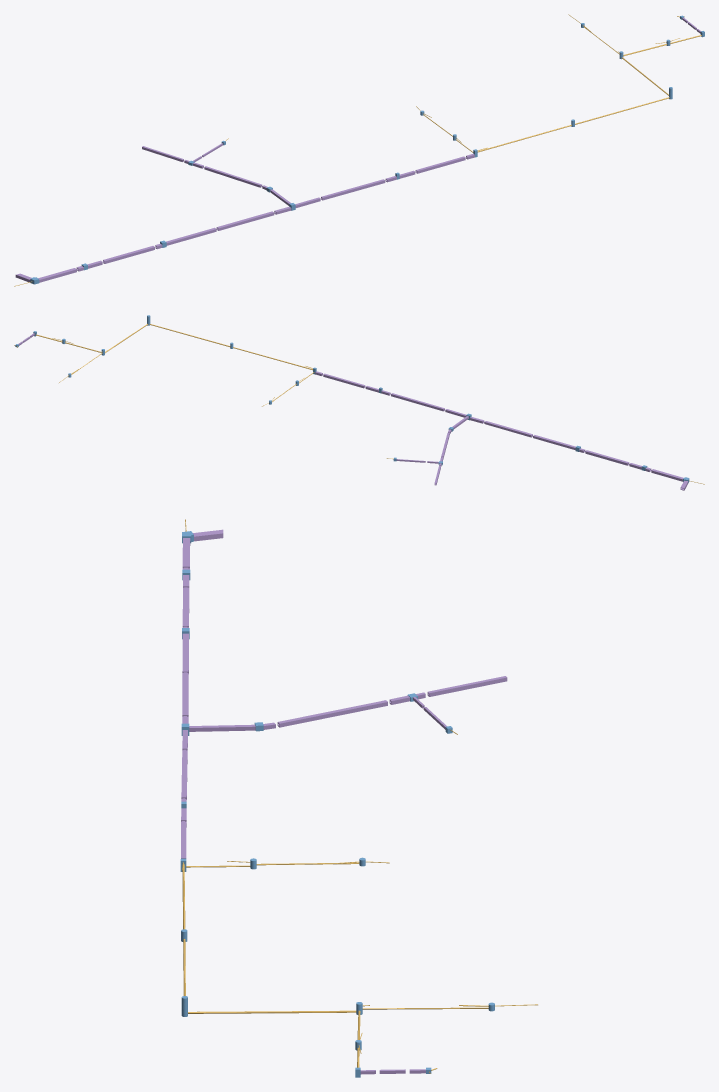
Rendered from 500125-CSSP001-780-XX-MD-ST-000341.glb.
3 views of the same model, one above another, from view 1: azimuth 30°, elevation 25°; view 2: azimuth 150°, elevation 25°; view 3: azimuth 270°, elevation 25° (orthographic). The views are drawn at different scales.
Parts seen in each view (by area): view 1: 500125-CSSP001-780-XX-MD-ST-000341#BOX006, 500125-CSSP001-780-XX-MD-ST-000341#BOX004, 500125-CSSP001-780-XX-MD-ST-000341#TUB007; view 2: 500125-CSSP001-780-XX-MD-ST-000341#BOX006, 500125-CSSP001-780-XX-MD-ST-000341#BOX004, 500125-CSSP001-780-XX-MD-ST-000341#TUB007, 500125-CSSP001-780-XX-MD-ST-000341#BOX005; view 3: 500125-CSSP001-780-XX-MD-ST-000341#TUB007, 500125-CSSP001-780-XX-MD-ST-000341#BOX004, 500125-CSSP001-780-XX-MD-ST-000341#BOX003, 500125-CSSP001-780-XX-MD-ST-000341#BOX006.
Part boxes in pixels (<box>): 500125-CSSP001-780-XX-MD-ST-000341#BOX006: <box>103,211,274,263</box>; 500125-CSSP001-780-XX-MD-ST-000341#BOX004: <box>262,170,415,214</box>; 500125-CSSP001-780-XX-MD-ST-000341#TUB007: <box>477,26,701,152</box>; 500125-CSSP001-780-XX-MD-ST-000341#BOX006: <box>484,421,629,465</box>; 500125-CSSP001-780-XX-MD-ST-000341#BOX004: <box>365,386,484,433</box>; 500125-CSSP001-780-XX-MD-ST-000341#TUB007: <box>36,324,312,374</box>; 500125-CSSP001-780-XX-MD-ST-000341#BOX005: <box>629,463,688,490</box>; 500125-CSSP001-780-XX-MD-ST-000341#TUB007: <box>182,862,488,1067</box>; 500125-CSSP001-780-XX-MD-ST-000341#BOX004: <box>181,716,275,821</box>; 500125-CSSP001-780-XX-MD-ST-000341#BOX003: <box>277,700,447,729</box>; 500125-CSSP001-780-XX-MD-ST-000341#BOX006: <box>182,587,189,716</box>.
Size of the model in its own units: 459 by 24.21 by 113.
